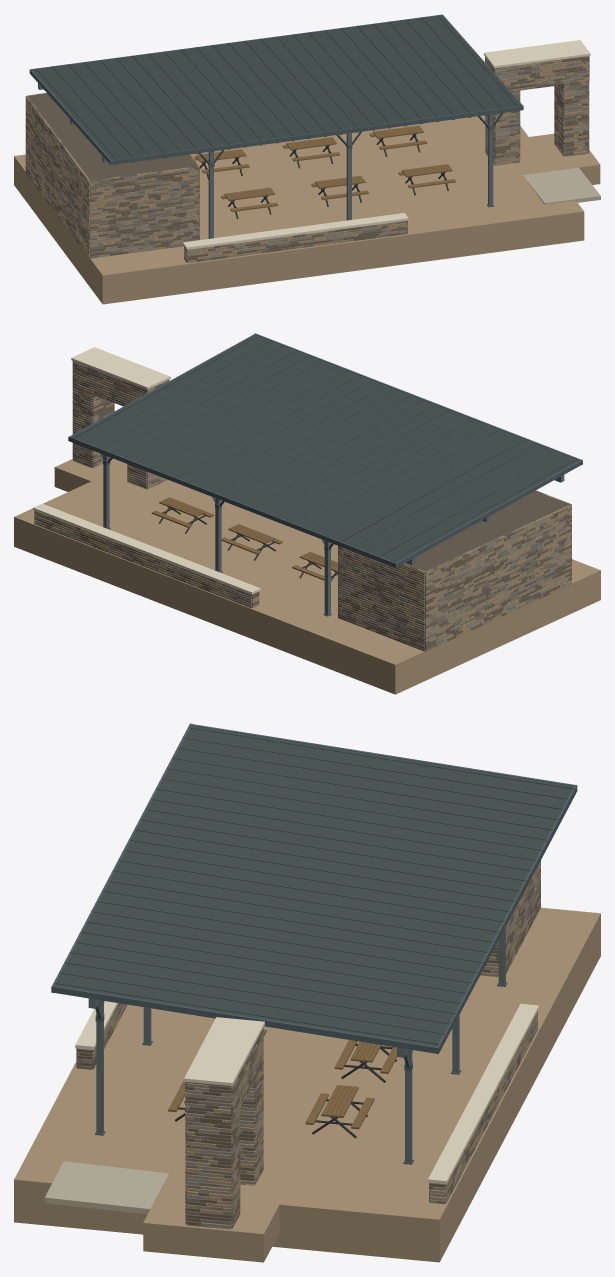
Rendered from lamar-shelter.glb.
3 views of the same model, one above another, from view 1: azimuth 30°, elevation 25°; view 2: azimuth 150°, elevation 25°; view 3: azimuth 270°, elevation 25° (orthographic). The views are drawn at different scales.
Parts seen in each view (by area): view 1: Lamar pavilion — warm pavers and stacked stone, Standing-seam roof, folded fascia and sloping roof edge, Distinctive dry-stack stone portal, Pavilion picnic furniture, Portal threshold and entry walkway, Square steel posts, knee braces and connections; view 2: Lamar pavilion — warm pavers and stacked stone, Standing-seam roof, folded fascia and sloping roof edge, Distinctive dry-stack stone portal, Pavilion picnic furniture, Square steel posts, knee braces and connections, Portal threshold and entry walkway; view 3: Standing-seam roof, folded fascia and sloping roof edge, Lamar pavilion — warm pavers and stacked stone, Distinctive dry-stack stone portal, Portal threshold and entry walkway, Pavilion picnic furniture, Square steel posts, knee braces and connections.
Part boxes in pixels (box(x1,y1,x2,y2)): Lamar pavilion — warm pavers and stacked stone: box(14, 93, 584, 304); Standing-seam roof, folded fascia and sloping roof edge: box(29, 14, 523, 164); Distinctive dry-stack stone portal: box(484, 40, 590, 165); Pavilion picnic furniture: box(193, 125, 455, 218); Portal threshold and entry walkway: box(478, 133, 600, 204); Square steel posts, knee braces and connections: box(198, 113, 502, 238); Lamar pavilion — warm pavers and stacked stone: box(14, 465, 600, 694); Standing-seam roof, folded fascia and sloping roof edge: box(68, 333, 582, 567); Distinctive dry-stack stone portal: box(71, 347, 170, 489); Pavilion picnic furniture: box(151, 497, 337, 581); Square steel posts, knee braces and connections: box(100, 453, 333, 616); Portal threshold and entry walkway: box(54, 458, 158, 491); Standing-seam roof, folded fascia and sloping roof edge: box(51, 723, 577, 1054); Lamar pavilion — warm pavers and stacked stone: box(14, 860, 600, 1262); Distinctive dry-stack stone portal: box(184, 1017, 264, 1229); Portal threshold and entry walkway: box(44, 1159, 279, 1262); Pavilion picnic furniture: box(168, 1029, 397, 1138); Square steel posts, knee braces and connections: box(95, 927, 507, 1164).
Bounding box in the file's own units: 24.48 × 6.39 × 16.83.
